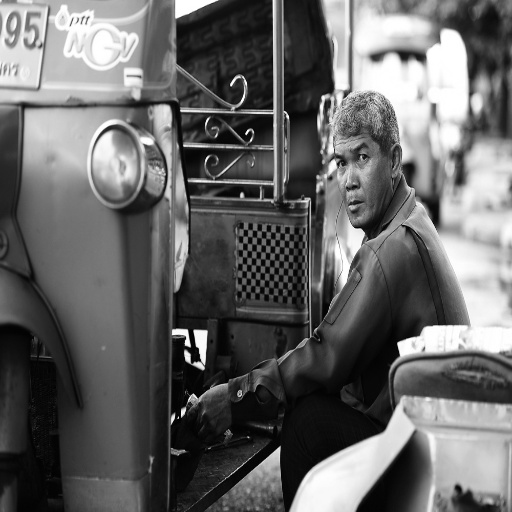hand: (186, 385, 239, 458)
